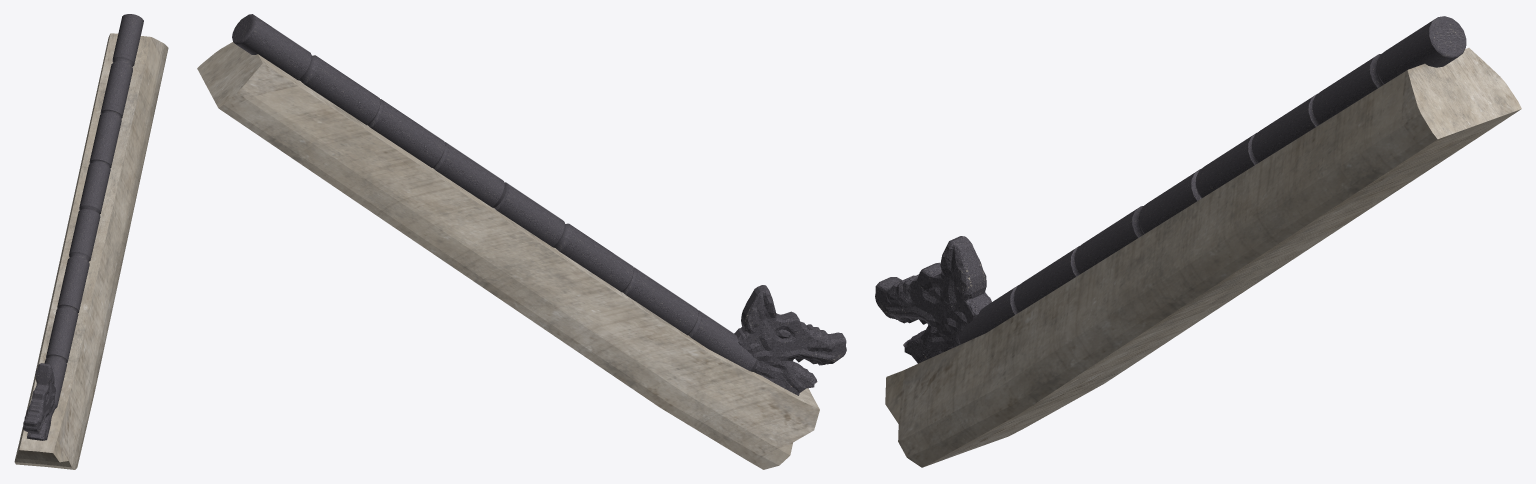
File: SM_R_BeamRoof_17.fbx
3 renders of one model, left to right at view 1: azimuth 30°, elevation 25°; view 2: azimuth 150°, elevation 25°; view 3: azimuth 270°, elevation 25°, orthographic. The views are drawn at different scales.
Visible parts, largest first — view 1: SM_R_BeamRoof_17; view 2: SM_R_BeamRoof_17; view 3: SM_R_BeamRoof_17.
Part boxes in pixels (left/top/right/bottom): SM_R_BeamRoof_17: left=14, top=14, right=168, bottom=469; SM_R_BeamRoof_17: left=197, top=14, right=846, bottom=469; SM_R_BeamRoof_17: left=875, top=16, right=1521, bottom=467.
Size of the model in its own units: 276 by 275 by 297.
Materials: 2 (2 with a texture image).
